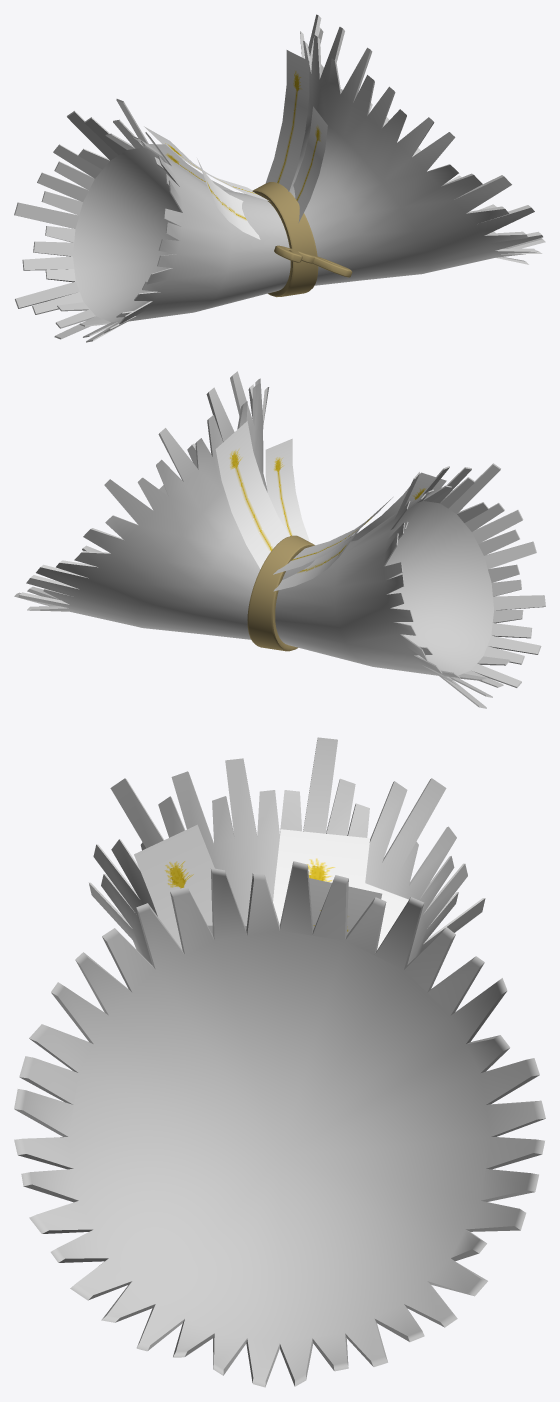
Rendered from Haypack.fbx.
The picture shows the model from 3 angles, top to bottom: view 1: azimuth 30°, elevation 25°; view 2: azimuth 150°, elevation 25°; view 3: azimuth 270°, elevation 25°; orthographic projection. The views are drawn at different scales.
Parts seen in each view (by area): view 1: polySurface1103, polySurface1107, polySurface1101, polySurface1105, polySurface1102, polySurface1106, polySurface1104; view 2: polySurface1103, polySurface1107, polySurface1101, polySurface1105, polySurface1104, polySurface1106; view 3: polySurface1103, polySurface1105, polySurface1106, polySurface1107, polySurface1104.
Boxes of the visible parts, x1,y1,x2,y2 form: polySurface1103: (14,14,545,342); polySurface1107: (265,50,309,191); polySurface1101: (293,106,327,222); polySurface1105: (197,158,260,239); polySurface1102: (274,245,352,277); polySurface1106: (144,126,269,201); polySurface1104: (149,144,234,191); polySurface1103: (14,371,545,708); polySurface1107: (215,421,289,568); polySurface1101: (265,438,309,541); polySurface1105: (346,472,446,541); polySurface1104: (273,528,360,591); polySurface1106: (273,497,392,574); polySurface1103: (14,737,545,1387); polySurface1105: (134,824,214,949); polySurface1106: (273,829,369,924); polySurface1107: (309,878,382,935); polySurface1104: (341,874,408,949).
Size of the model in its own units: 14.06 by 7.21 by 8.57.
